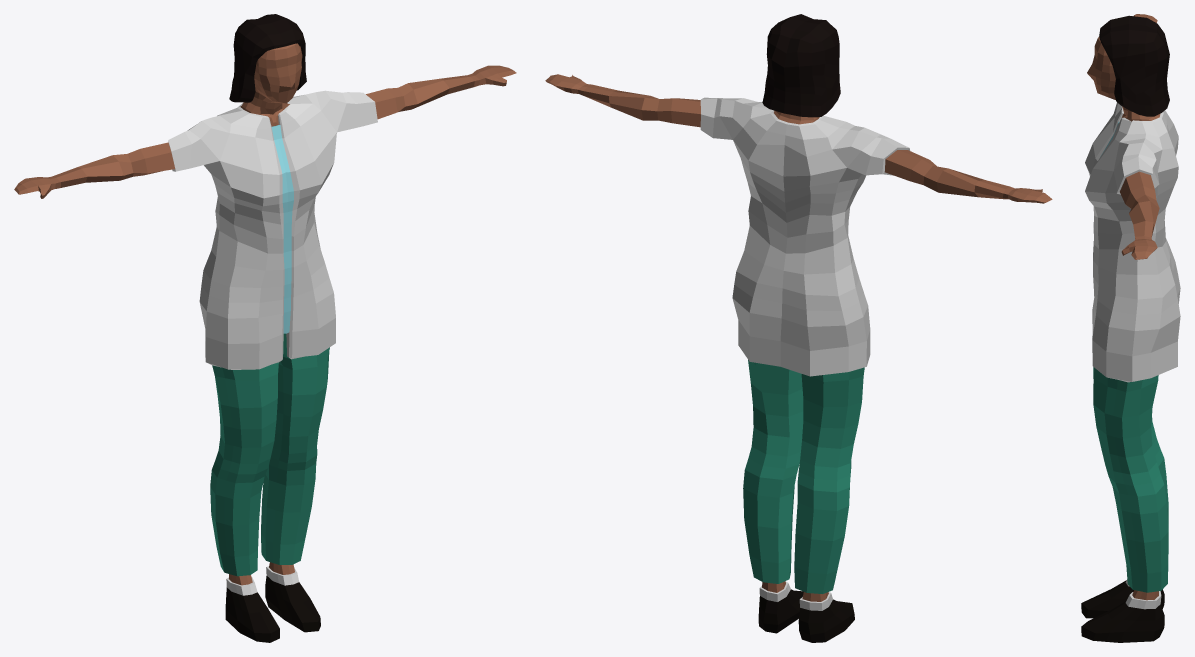
Rendered from Doctor.fbx.
The picture shows the model from 3 angles, left to right: view 1: azimuth 30°, elevation 25°; view 2: azimuth 150°, elevation 25°; view 3: azimuth 270°, elevation 25°; orthographic projection.
Visible parts, largest first — view 1: Cube.005; view 2: Cube.005; view 3: Cube.005.
Part boxes in pixels (x1,y1,x2,y2): Cube.005: (14, 14, 516, 642); Cube.005: (545, 14, 1052, 642); Cube.005: (1081, 14, 1180, 642).
Size of the model in its own units: 379 by 436 by 64.94.
